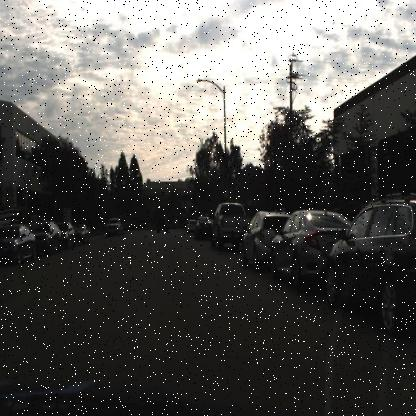car: (324, 192, 416, 337), (270, 205, 364, 289), (240, 209, 288, 273), (209, 199, 254, 250), (0, 222, 38, 270), (31, 219, 60, 254), (193, 214, 216, 243), (105, 216, 126, 242), (57, 221, 75, 249), (74, 224, 93, 246), (154, 211, 169, 236), (185, 216, 198, 238)
